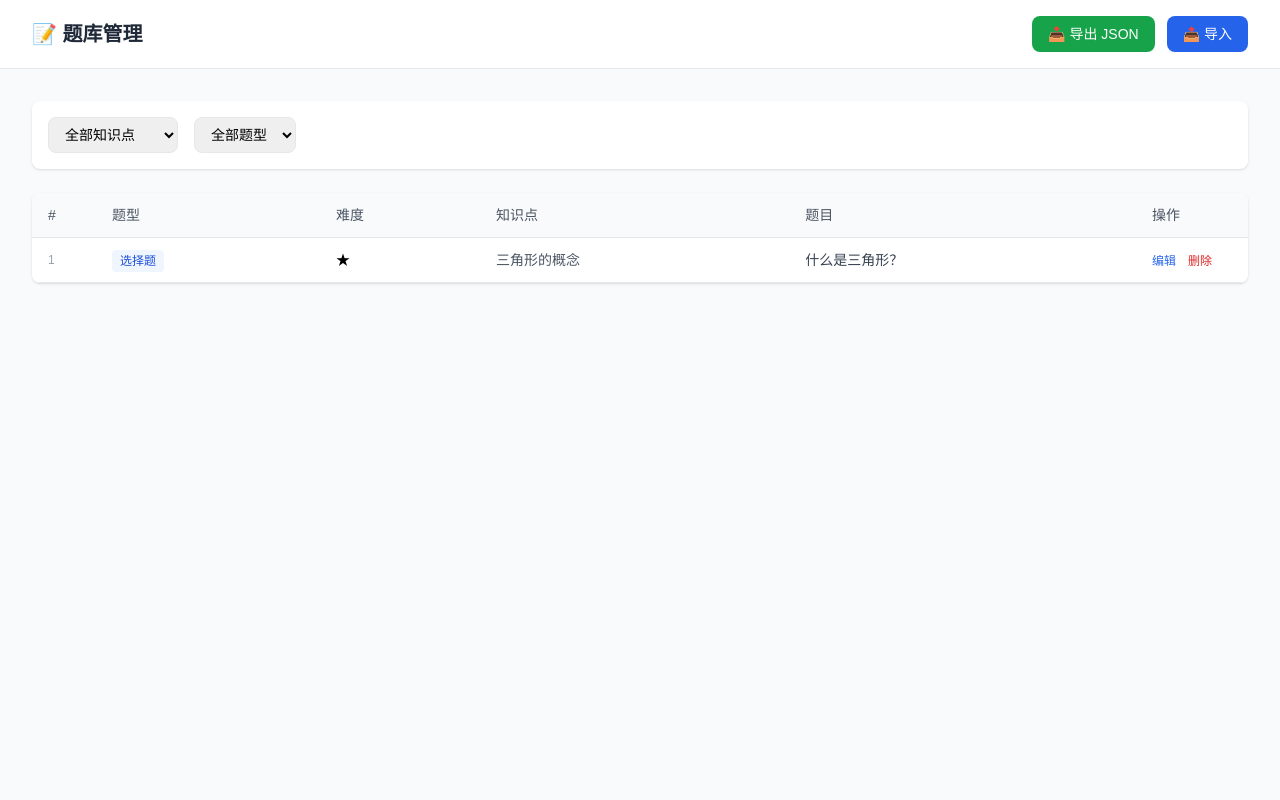
AdminQuestions 页面测试 › 4. 点击编辑按钮显示编辑弹窗
Check: the text "什么是三角形？" is shown, box [789,238,1136,282]
Click the button "编辑": point(1164, 261) [1152,253,1176,269]
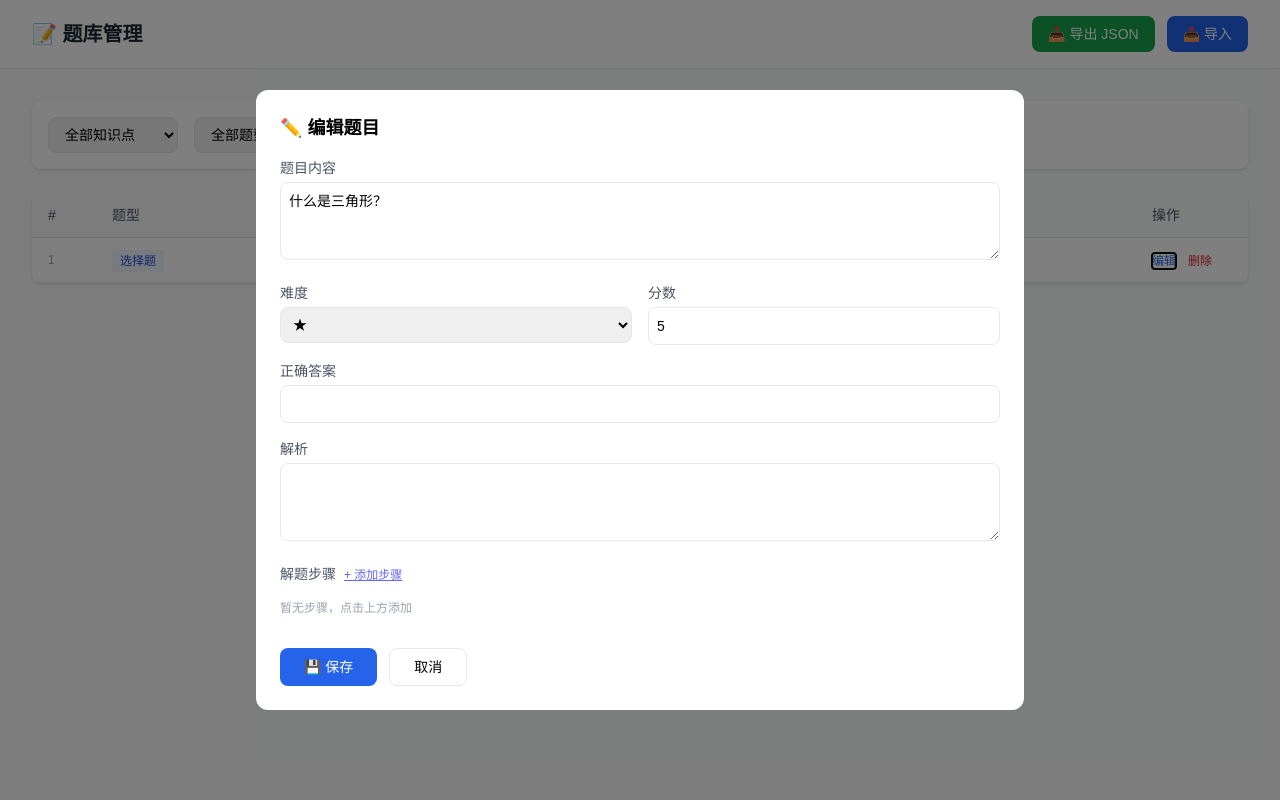
Check: the heading "✏️ 编辑题目" is shown, box [280,118,380,138]
